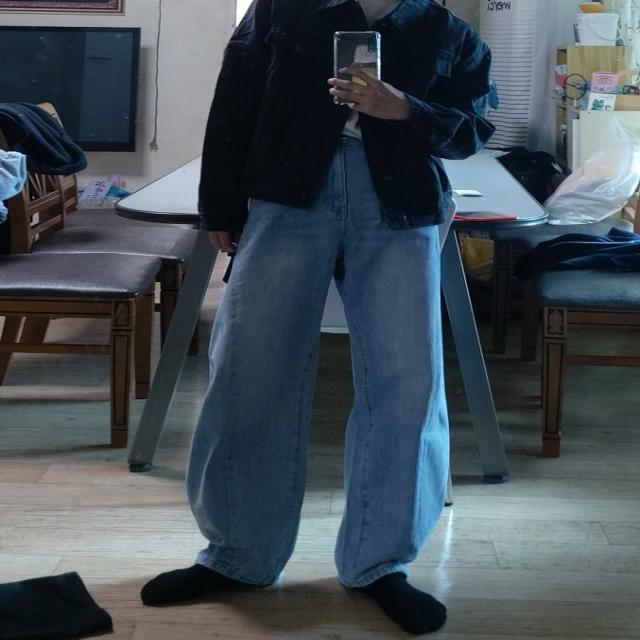denimpants: (185, 136, 451, 581)
jacket: (194, 0, 492, 238)
